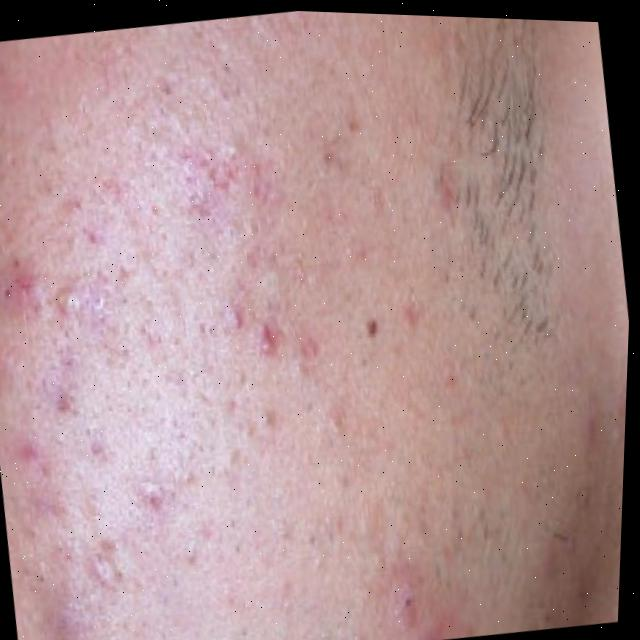Acne: (0, 68, 528, 581)
